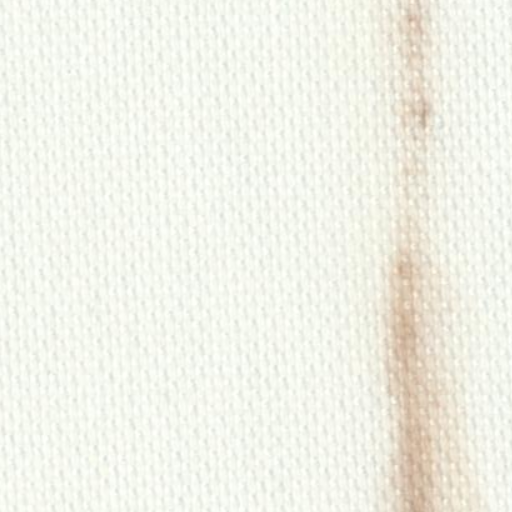WuZi: (356, 3, 478, 507)
